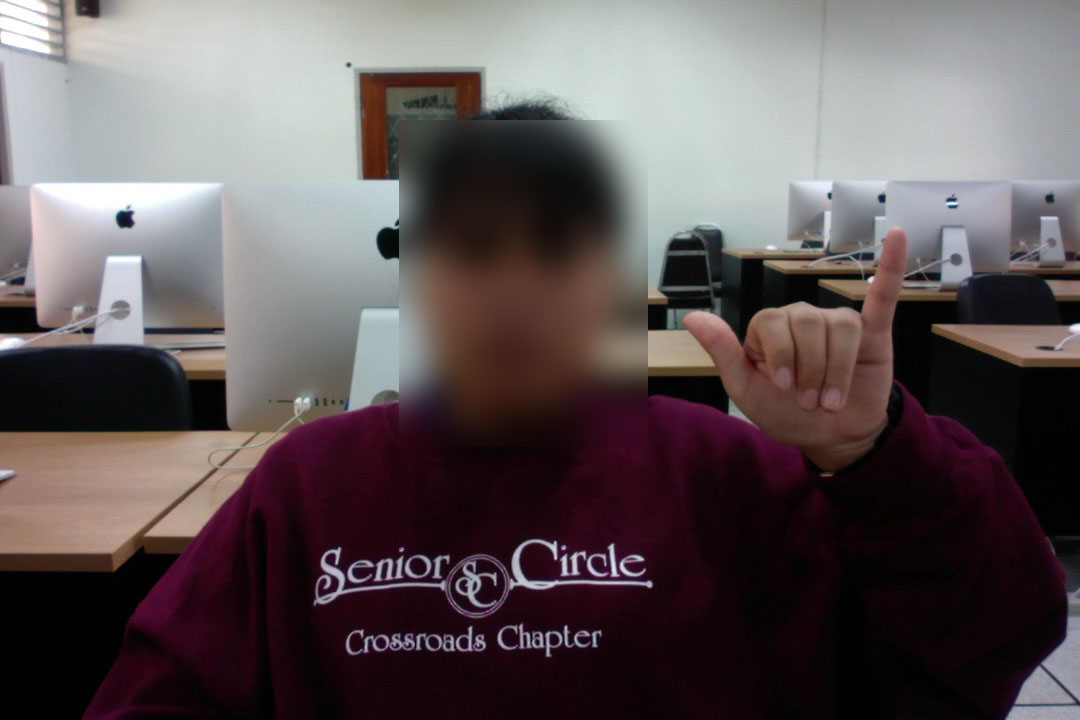yor: (670, 219, 919, 468)
